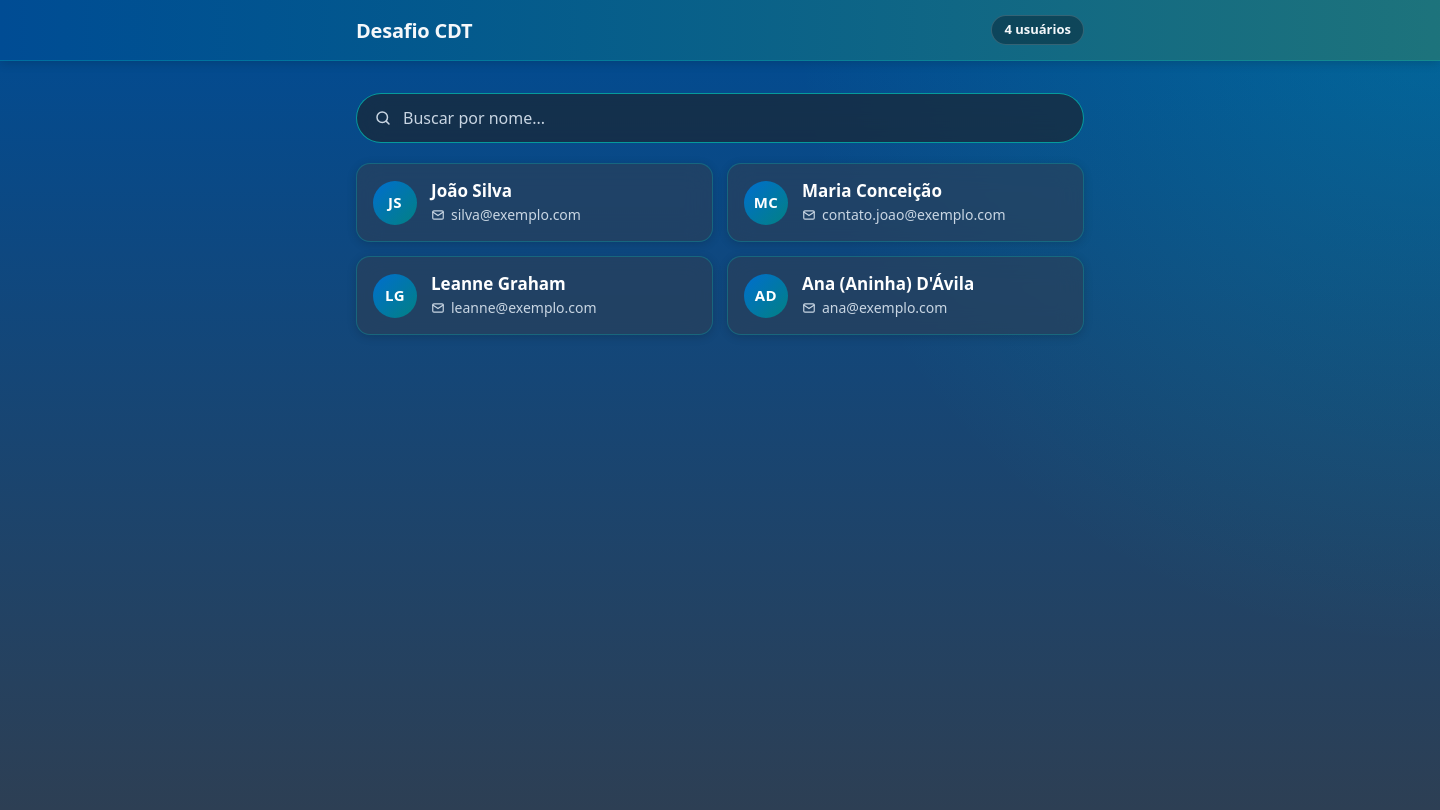
Scenario: App › nenhum resultado › mostra a mensagem quando o termo não combina com nenhum nome
The image size is (1440, 810).
Check: the list is shown, box x1=356 y1=163 x2=1084 y2=335
Type "zzz" into the search field labelled "Buscar por nome" at (720, 118), box x1=356 y1=93 x2=1084 y2=143
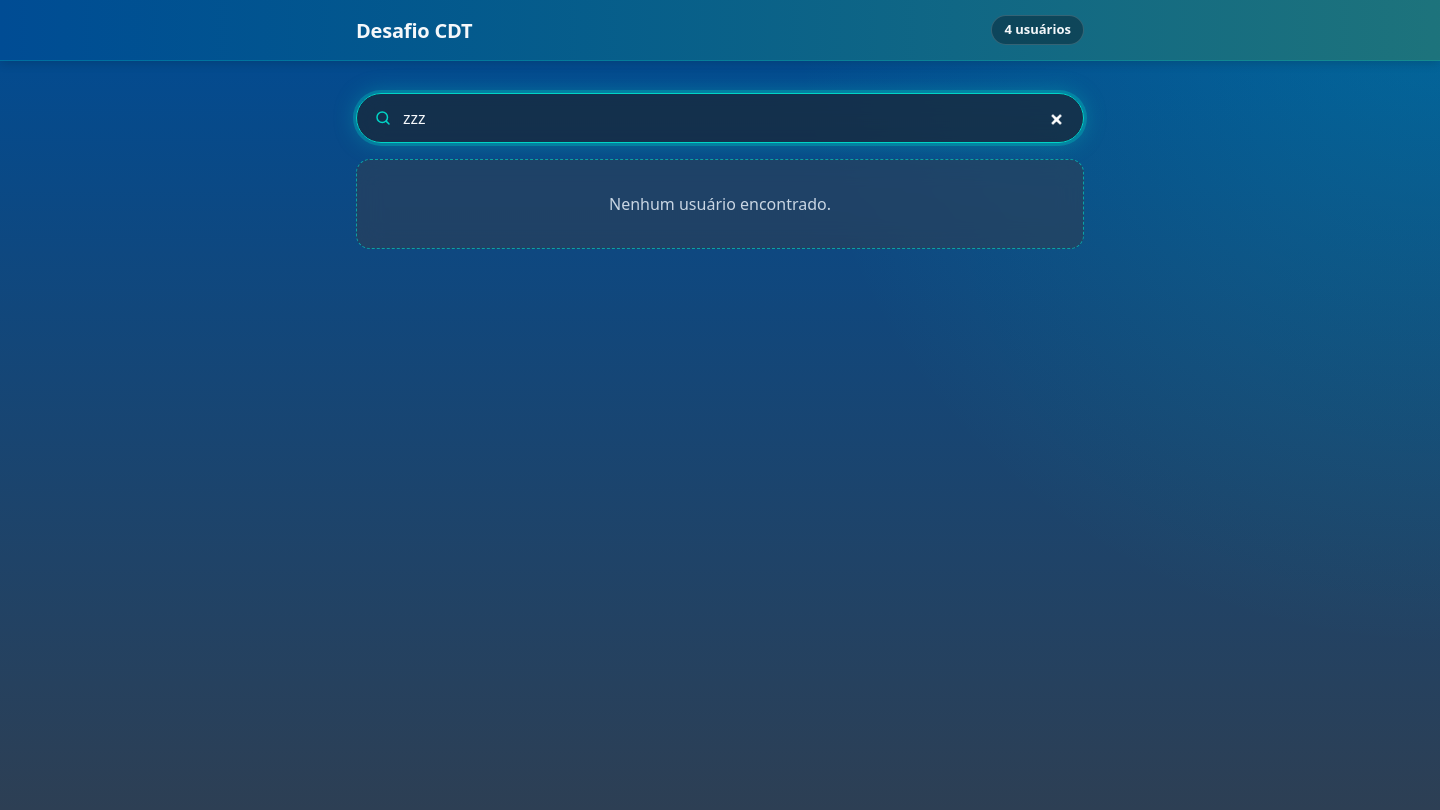
Check: the text "Nenhum usuário encontrado." is shown, box x1=356 y1=159 x2=1084 y2=249
Check: the list is gone
